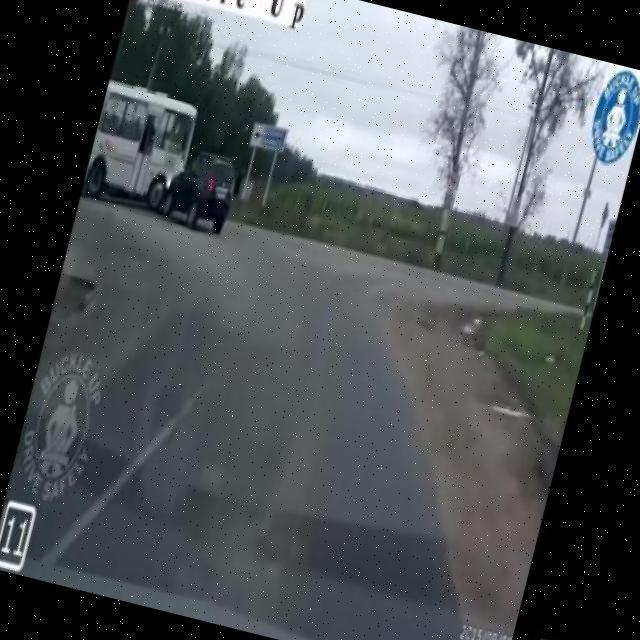accident: (71, 77, 265, 250)
